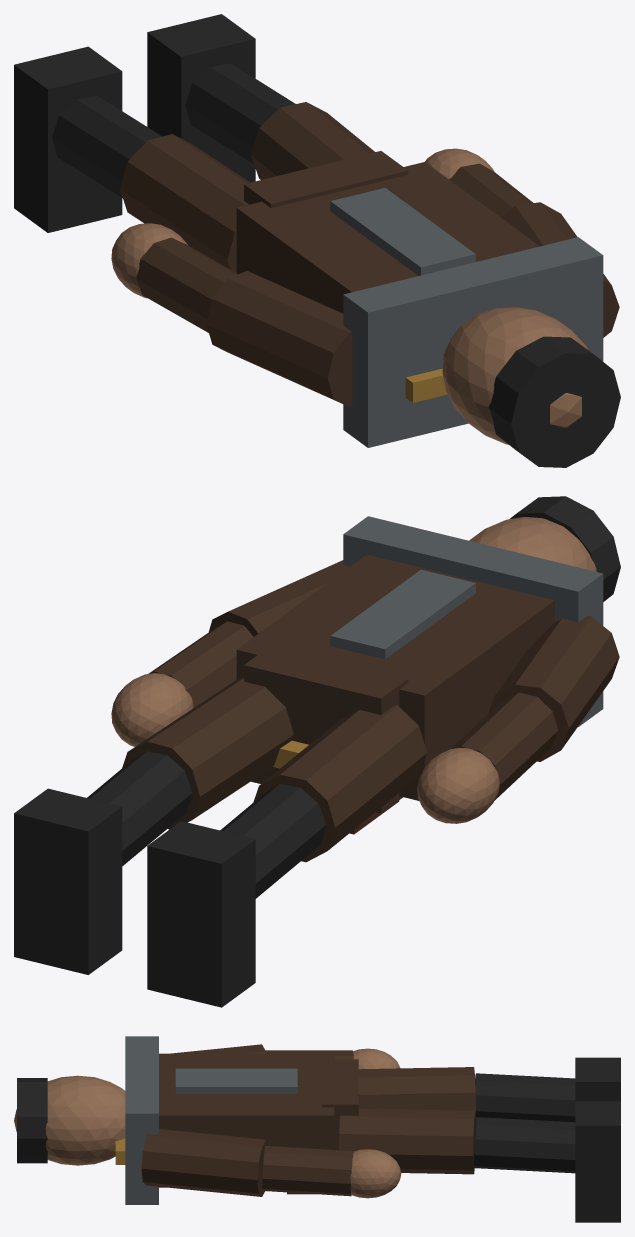
File: SM_CharacterHero_Preview.obj
3 renders of one model, top to bottom at view 1: azimuth 30°, elevation 25°; view 2: azimuth 150°, elevation 25°; view 3: azimuth 270°, elevation 25°, orthographic. The views are drawn at different scales.
Bounding box in the file's own units: 0.95 × 0.41 × 1.99.
